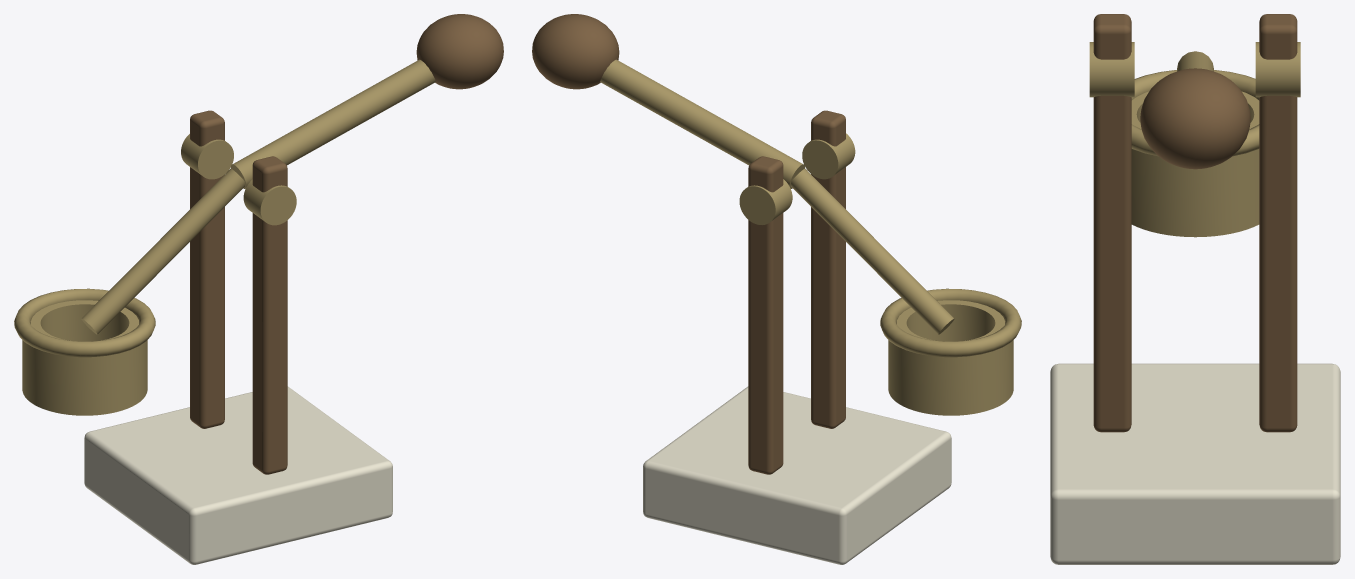
File: water-clock-garden-and-hydraulic-puzzles-water-driven--0e9e23ac__31939.glb
The picture shows the model from 3 angles, left to right: view 1: azimuth 30°, elevation 25°; view 2: azimuth 150°, elevation 25°; view 3: azimuth 270°, elevation 25°; orthographic projection. The views are drawn at different scales.
Parts seen in each view (by area): view 1: water-driven-bell-striker; view 2: water-driven-bell-striker; view 3: water-driven-bell-striker.
Part boxes in pixels (bbox=[...]): water-driven-bell-striker: bbox=[14, 14, 503, 564]; water-driven-bell-striker: bbox=[532, 14, 1021, 564]; water-driven-bell-striker: bbox=[1050, 14, 1340, 564].
Size of the model in its own units: 1.05 by 0.91 by 0.42.
